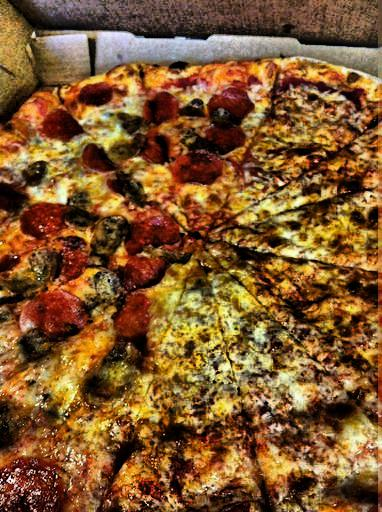pizza: (7, 61, 382, 500)
